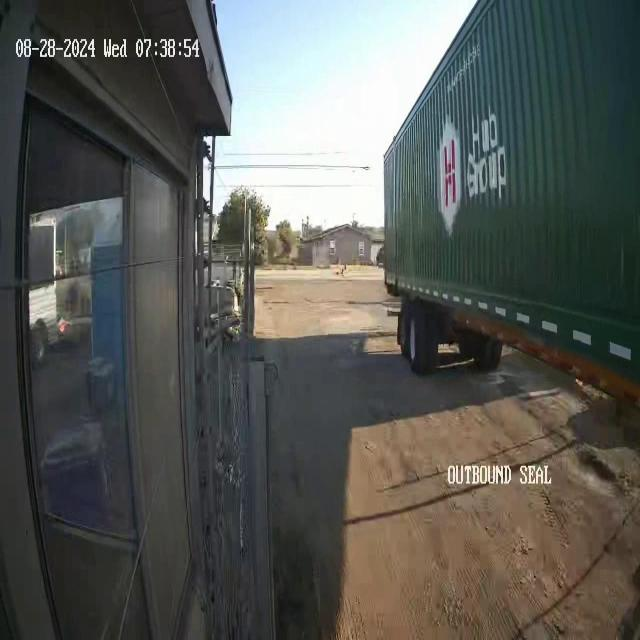TRUCK_IN: (382, 0, 639, 404)
